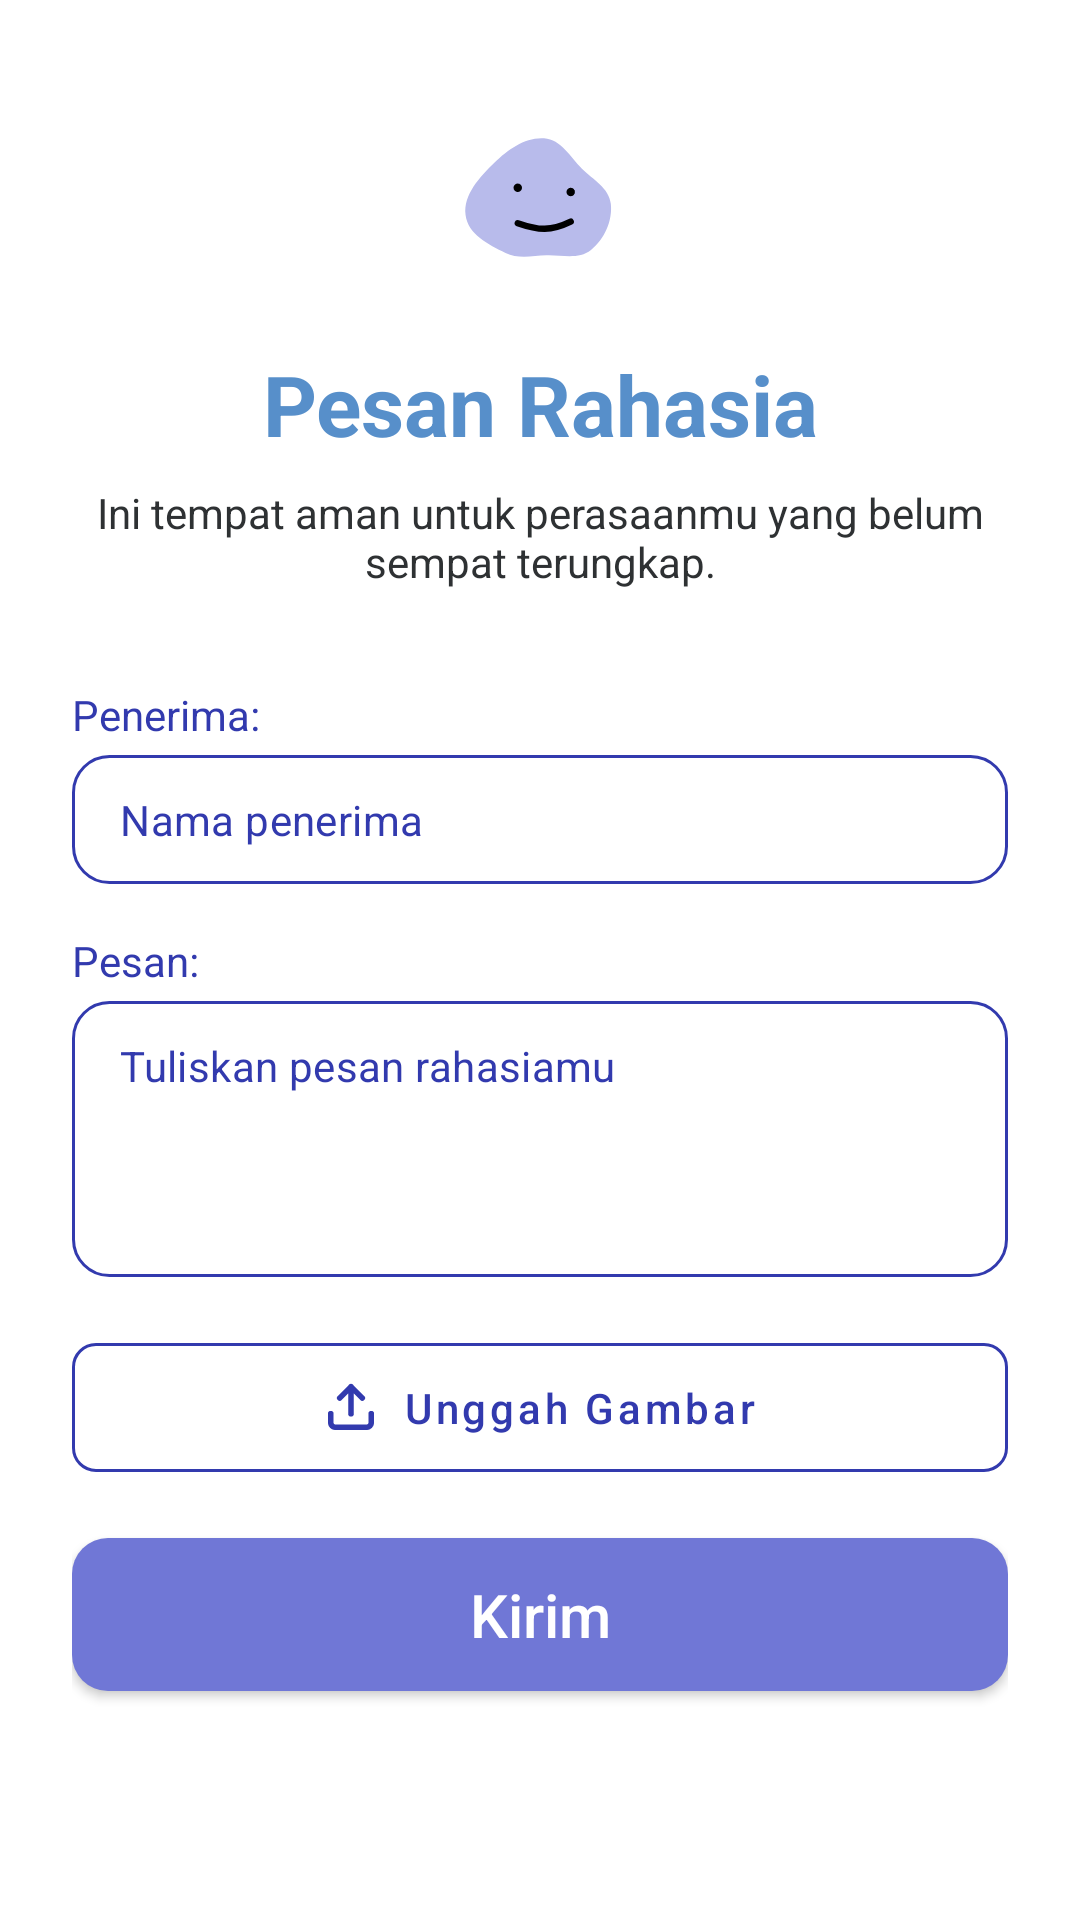

Named icons in this screenshot (1080×1920) and their bounding boxes, (x1, y1, x2, y2):
smiley cloud: (465, 138, 611, 257)
